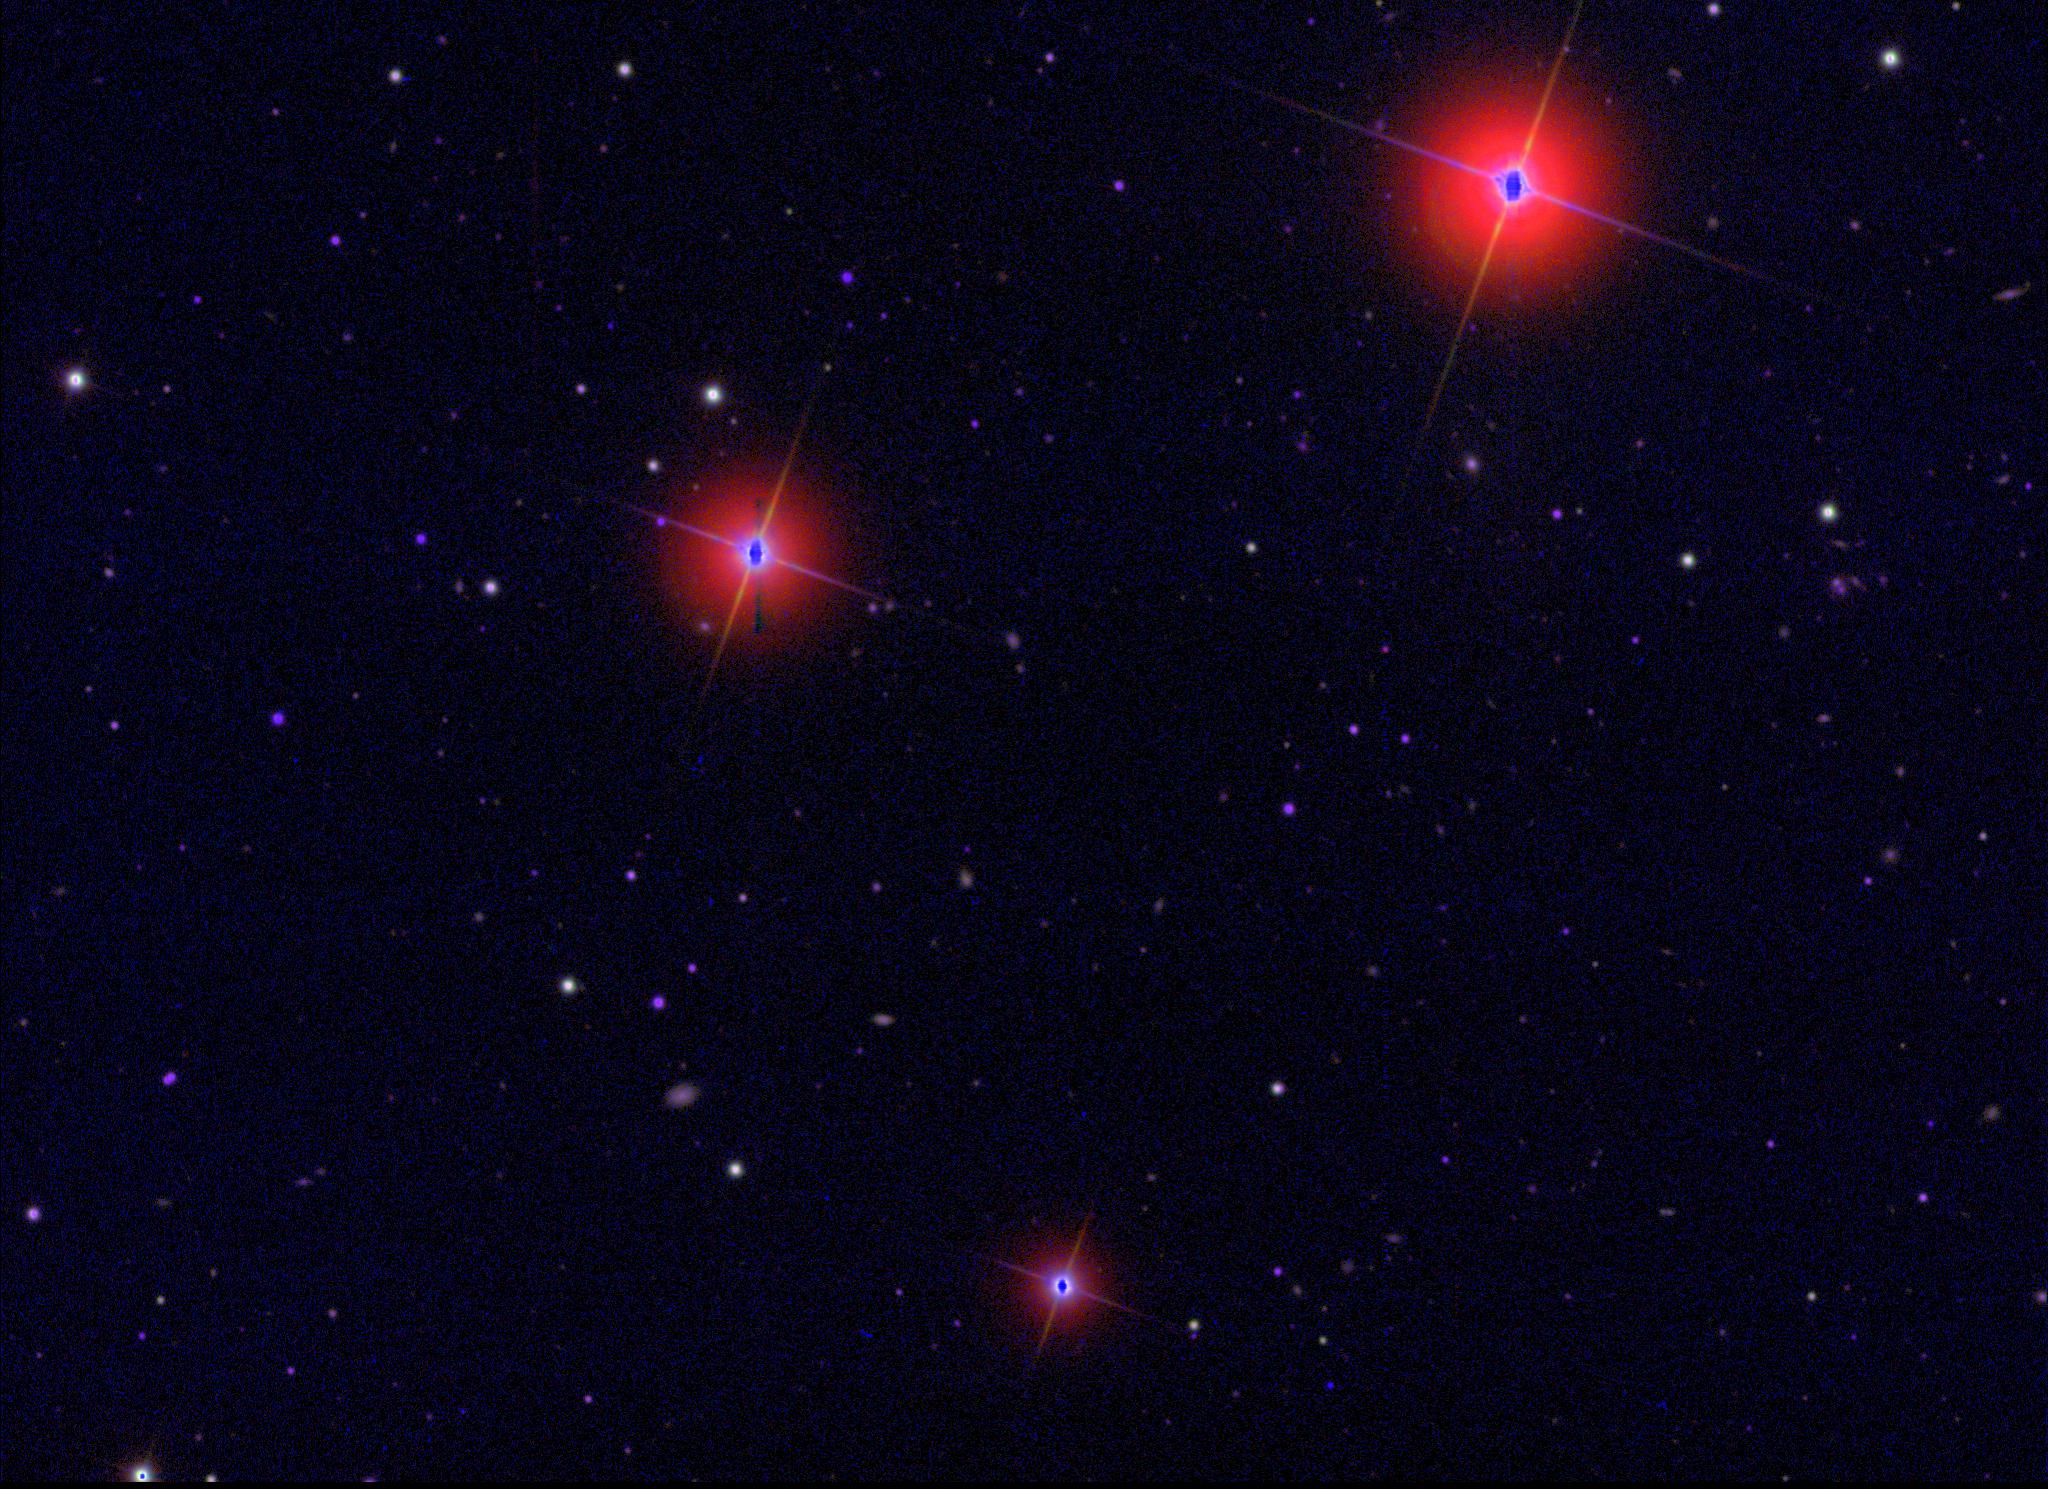L: (1325, 1379, 1337, 1394)
